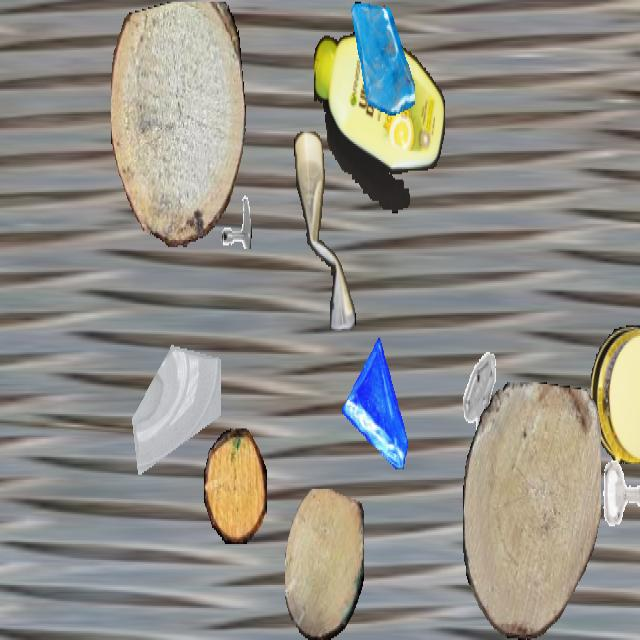glass: (128, 309, 220, 473), (342, 338, 416, 469), (351, 1, 415, 116)
metal: (449, 349, 509, 455), (597, 439, 640, 549), (210, 174, 252, 249)
plastic: (314, 32, 444, 213), (294, 132, 356, 330), (591, 325, 640, 464)
wood: (463, 382, 601, 638), (111, 2, 245, 247), (285, 489, 363, 638), (204, 428, 266, 542)
